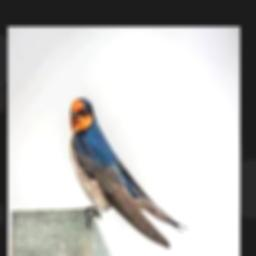Swallow: (70, 97, 188, 248)
